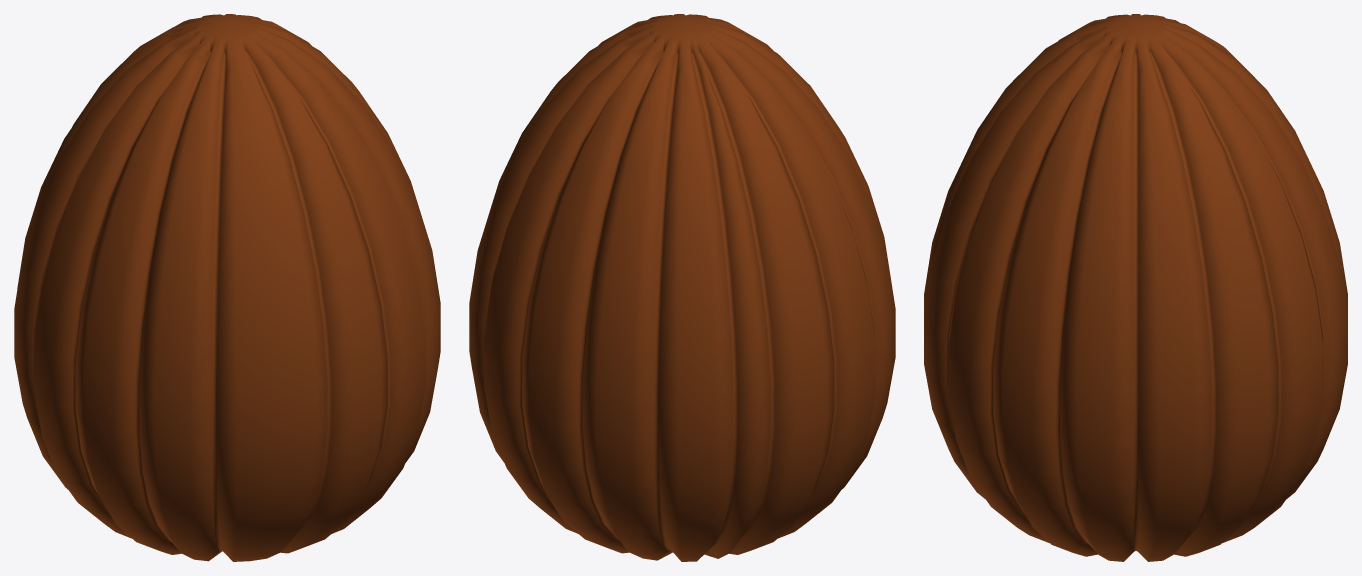
File: almond.glb
The picture shows the model from 3 angles, left to right: view 1: azimuth 30°, elevation 25°; view 2: azimuth 150°, elevation 25°; view 3: azimuth 270°, elevation 25°; orthographic projection.
Visible parts, largest first — view 1: Sphere.016; view 2: Sphere.016; view 3: Sphere.016.
Boxes of the visible parts, x1,y1,x2,y2 form: Sphere.016: (14,14,440,561); Sphere.016: (469,14,895,561); Sphere.016: (924,14,1347,561).
Bounding box in the file's own units: 1.47 × 1.98 × 1.46.
